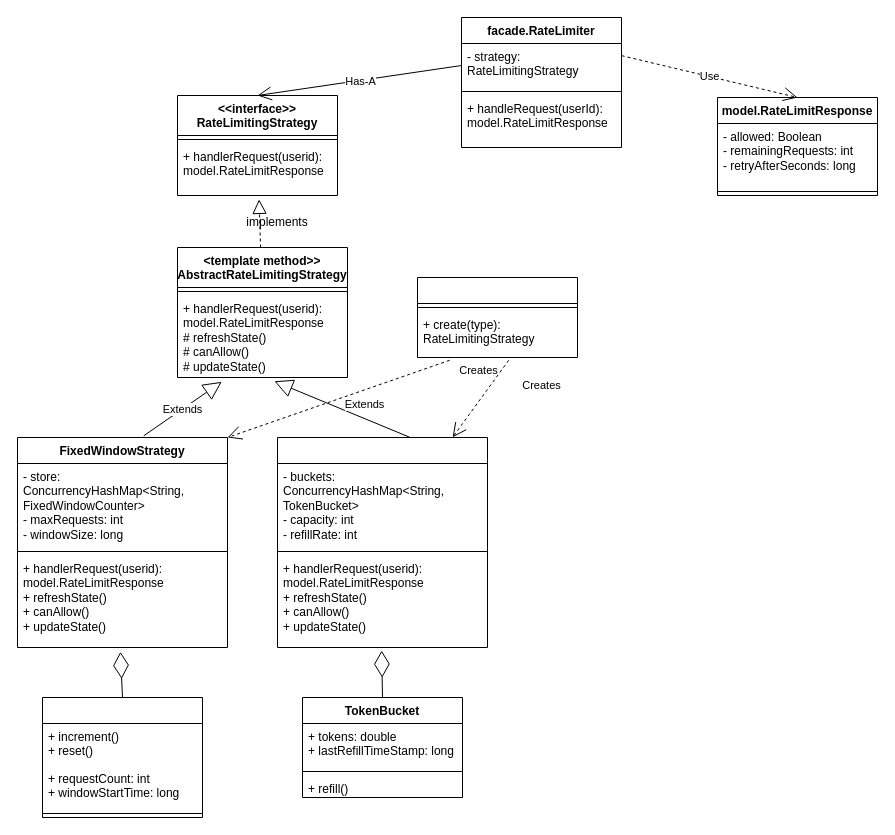
This 895x835 diagram has some shape labels left out. The shapes that lost their labels are listed below. From the top down, each one's box as (x1, y1, x2, y2) in pixels, then its label:
(416, 276, 578, 358): RateLimitFactory
(276, 436, 488, 648): TokenBucketStrategy
(42, 696, 202, 818): FixedWindowCounter
